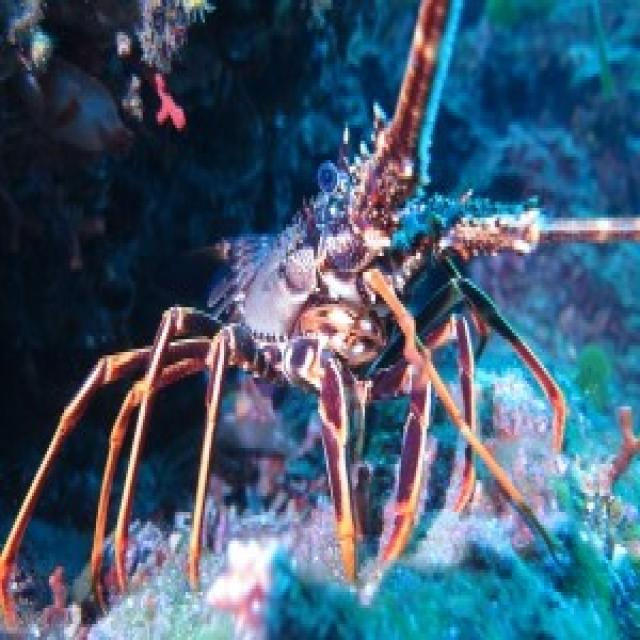lobsters: (55, 0, 640, 634)
